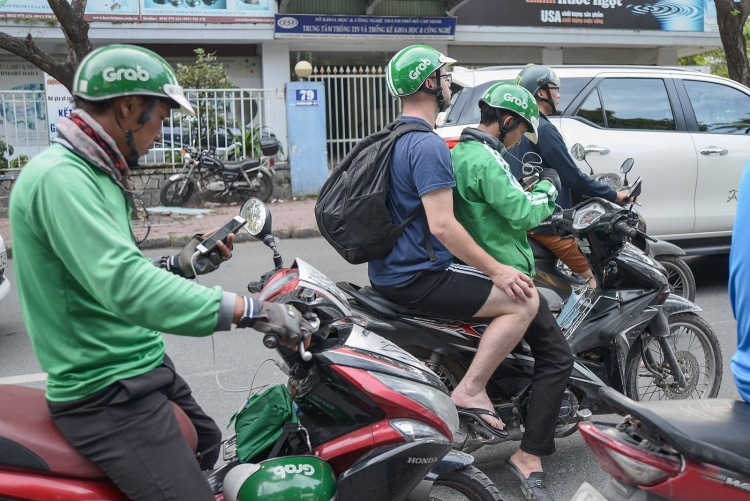su dung dien thoai: (71, 43, 246, 263)
